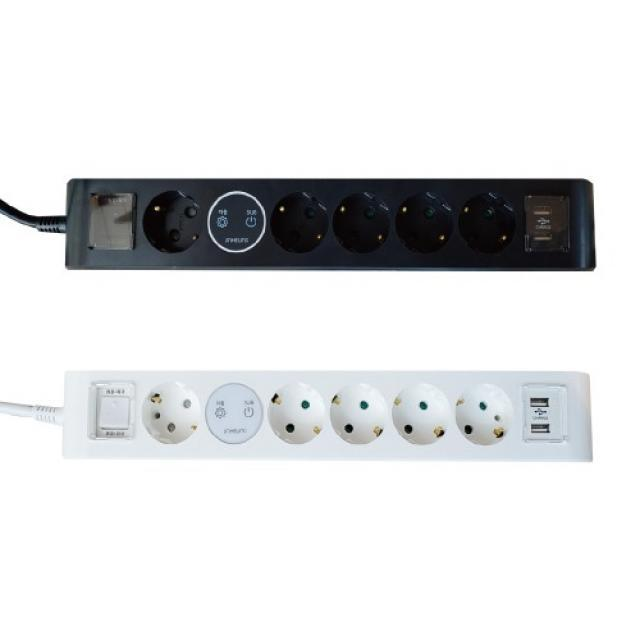typeb: (49, 152, 618, 338), (44, 344, 626, 496)
